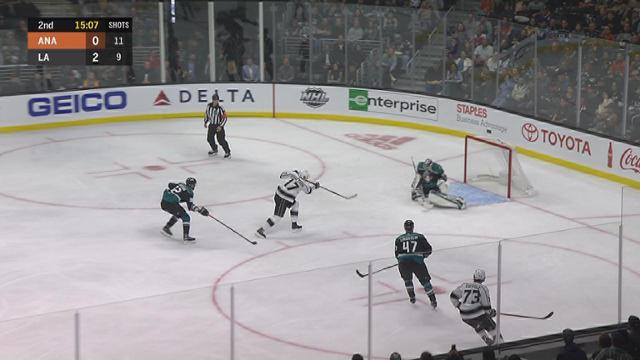geico: (23, 87, 132, 119)
